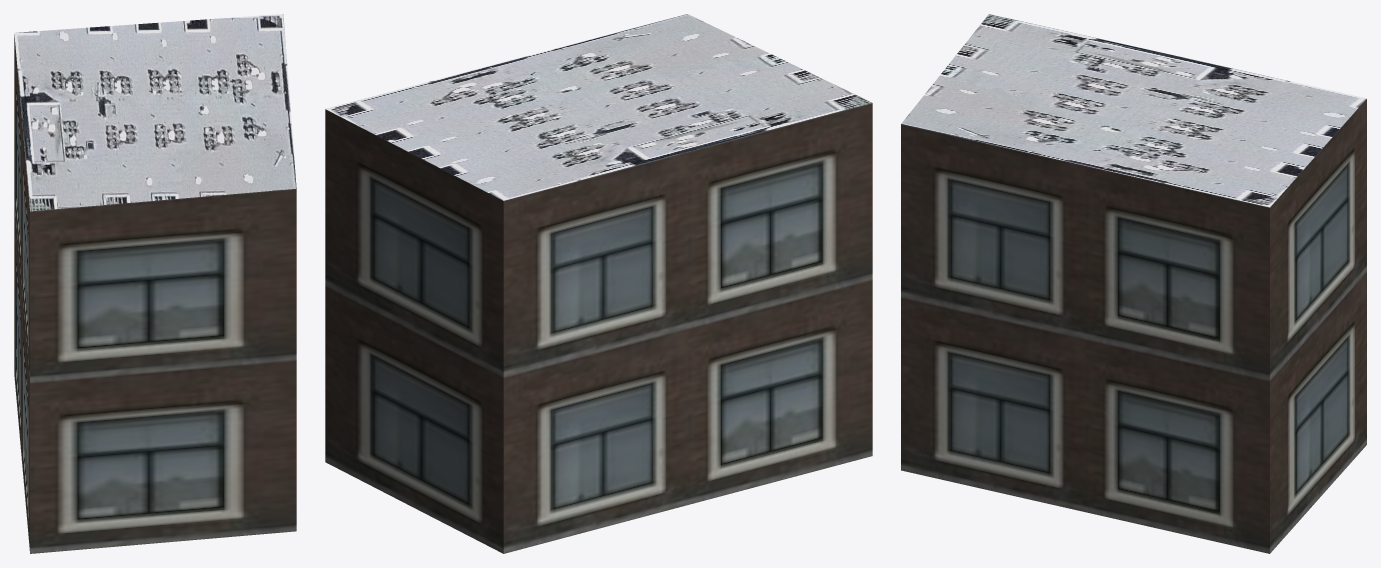
The model's file is ResTex__3052.fbx.
The picture shows the model from 3 angles, left to right: view 1: azimuth 30°, elevation 25°; view 2: azimuth 150°, elevation 25°; view 3: azimuth 270°, elevation 25°; orthographic projection. The views are drawn at different scales.
Visible parts, largest first — view 1: CityEngineMaterial_16_m, CityEngineMaterial_15_m; view 2: CityEngineMaterial_16_m, CityEngineMaterial_15_m; view 3: CityEngineMaterial_16_m, CityEngineMaterial_15_m.
Part boxes in pixels (left/top/right/bottom): CityEngineMaterial_16_m: left=14, top=34, right=296, bottom=553; CityEngineMaterial_15_m: left=14, top=14, right=296, bottom=211; CityEngineMaterial_16_m: left=325, top=103, right=872, bottom=553; CityEngineMaterial_15_m: left=325, top=14, right=872, bottom=200; CityEngineMaterial_16_m: left=901, top=99, right=1366, bottom=553; CityEngineMaterial_15_m: left=901, top=14, right=1366, bottom=207.
Size of the model in its own units: 7.19 by 6 by 7.31.
Materials: 2 (2 with a texture image).
